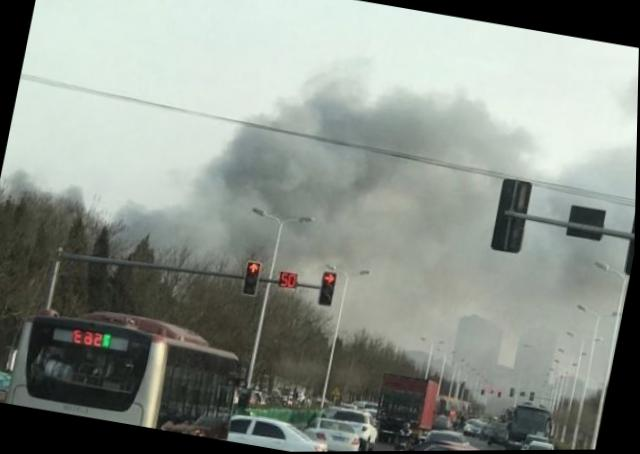smoke: (176, 57, 536, 333), (112, 183, 190, 262), (599, 56, 638, 201), (0, 157, 97, 213)
